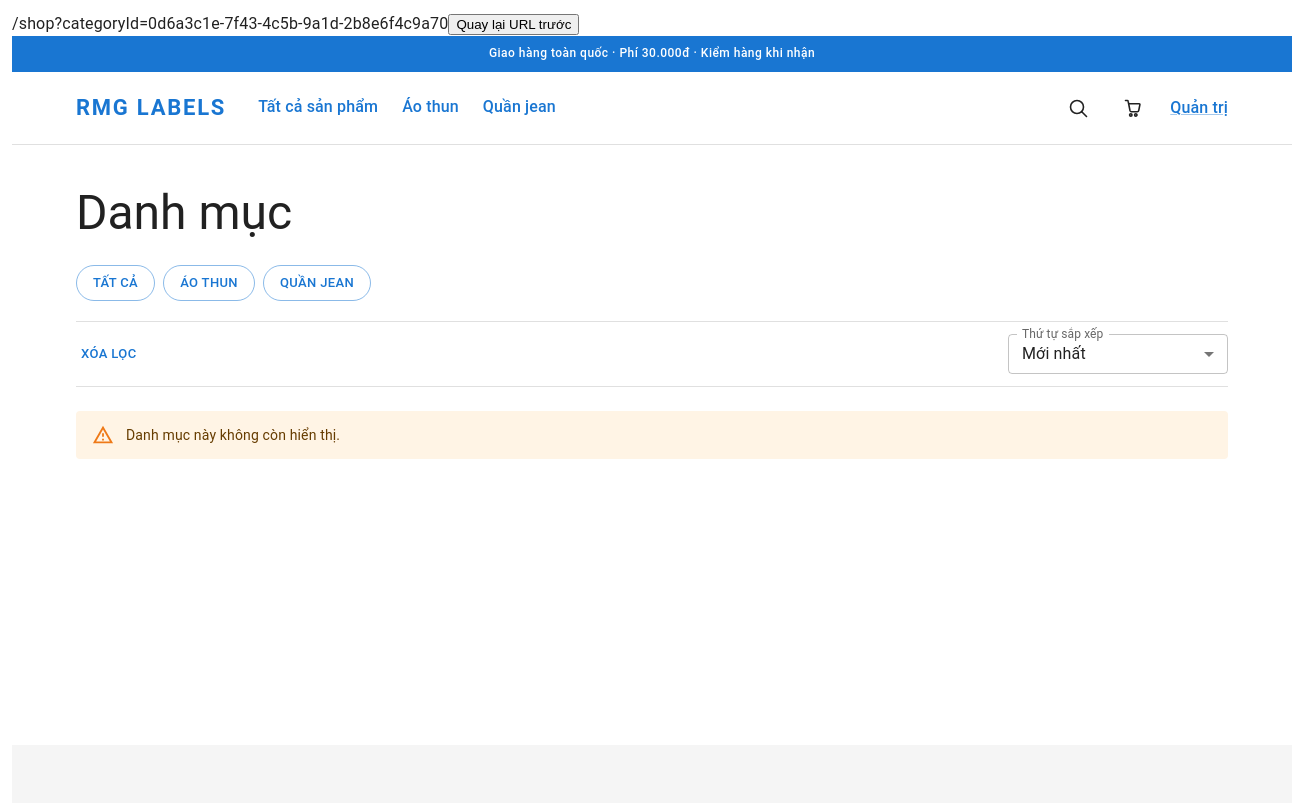
Test: public shop catalog › says a category is no longer shown instead of pretending to list every category
Expected: the text "Danh mục này không còn hiển thị." is shown, [126, 427, 340, 443]
What coordinates should you click on to do the following:
click the button "Xóa lọc"
I would click on:
 (109, 354)
Its box is [76, 336, 142, 372].
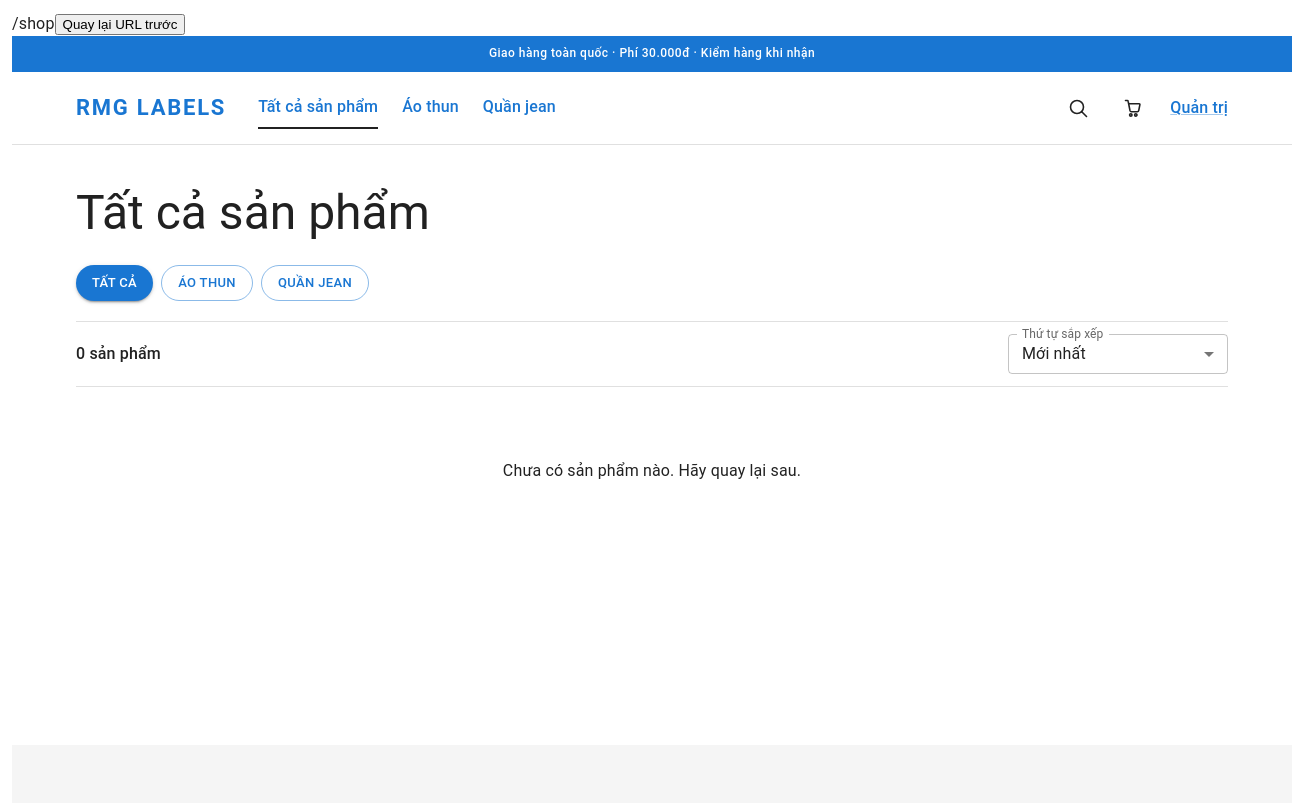
Expected: the text with test id "url" reads "/shop", [12, 14, 54, 33]
Expected: the text "Danh mục này không còn hiển thị." is gone
